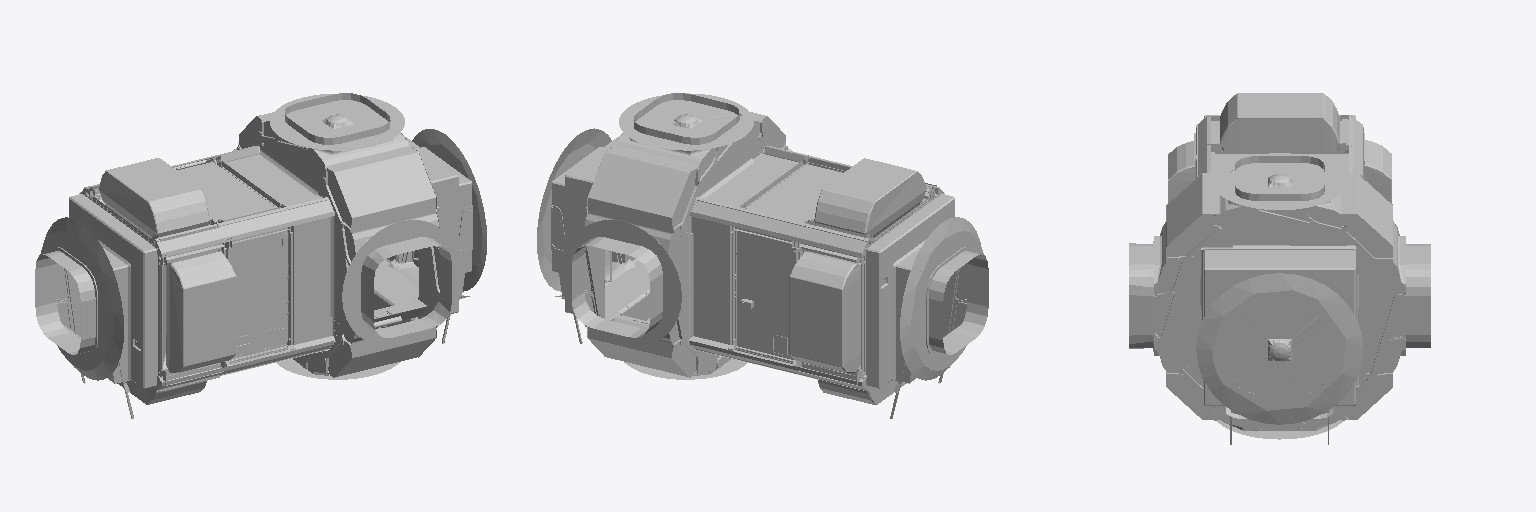
The picture shows the model from 3 angles: view 1: azimuth 30°, elevation 25°; view 2: azimuth 150°, elevation 25°; view 3: azimuth 270°, elevation 25°; orthographic projection.
Visible parts, largest first — view 1: Node2_Int_Hub_ZNH; view 2: Node2_Int_Hub_ZNH; view 3: Node2_Int_Hub_ZNH.
Part boxes in pixels (x1,y1,x2,y2): Node2_Int_Hub_ZNH: (35, 93, 486, 418); Node2_Int_Hub_ZNH: (537, 93, 988, 418); Node2_Int_Hub_ZNH: (1129, 93, 1430, 444).
Size of the model in its own units: 6.42 by 3.74 by 4.25.